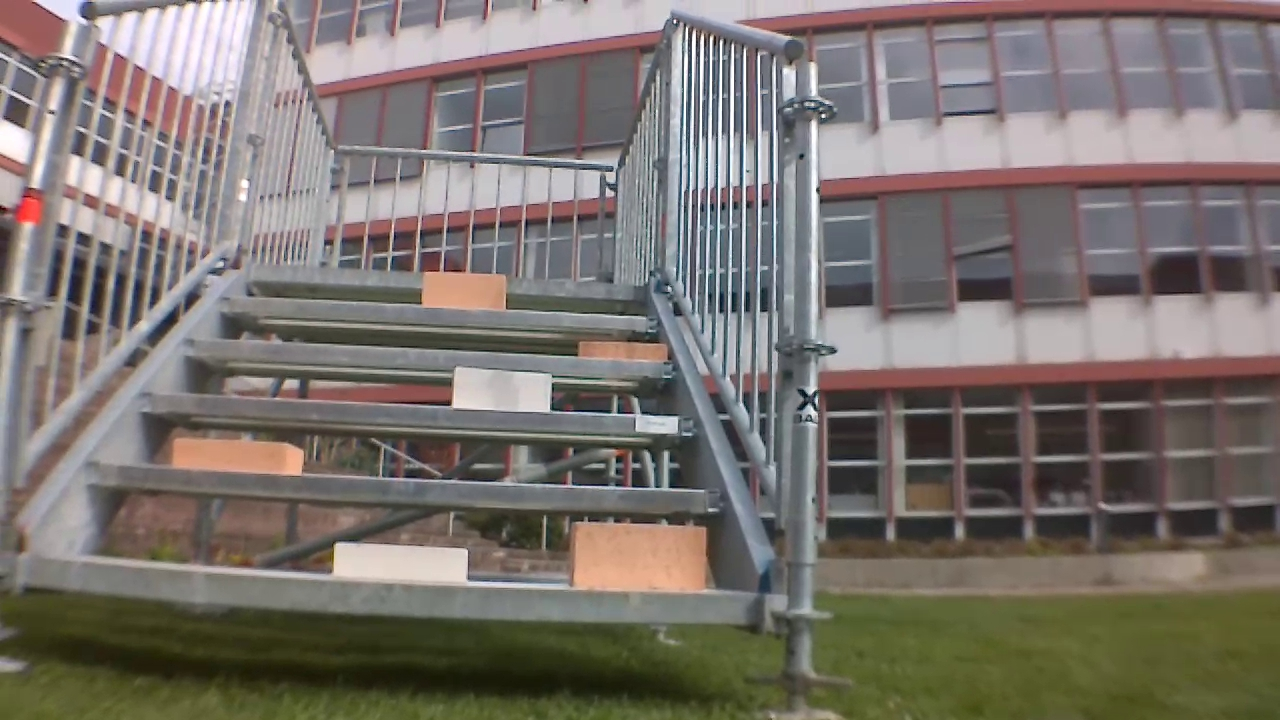brick: (574, 524, 706, 592), (334, 542, 466, 584), (172, 439, 302, 473), (453, 368, 549, 411), (423, 273, 505, 309), (581, 341, 668, 363)
edge: (26, 558, 756, 623), (88, 460, 721, 512), (139, 391, 695, 437), (187, 337, 674, 378), (220, 295, 656, 332), (249, 262, 641, 299)
stairs: (4, 2, 849, 714)
steps: (17, 259, 769, 638)
